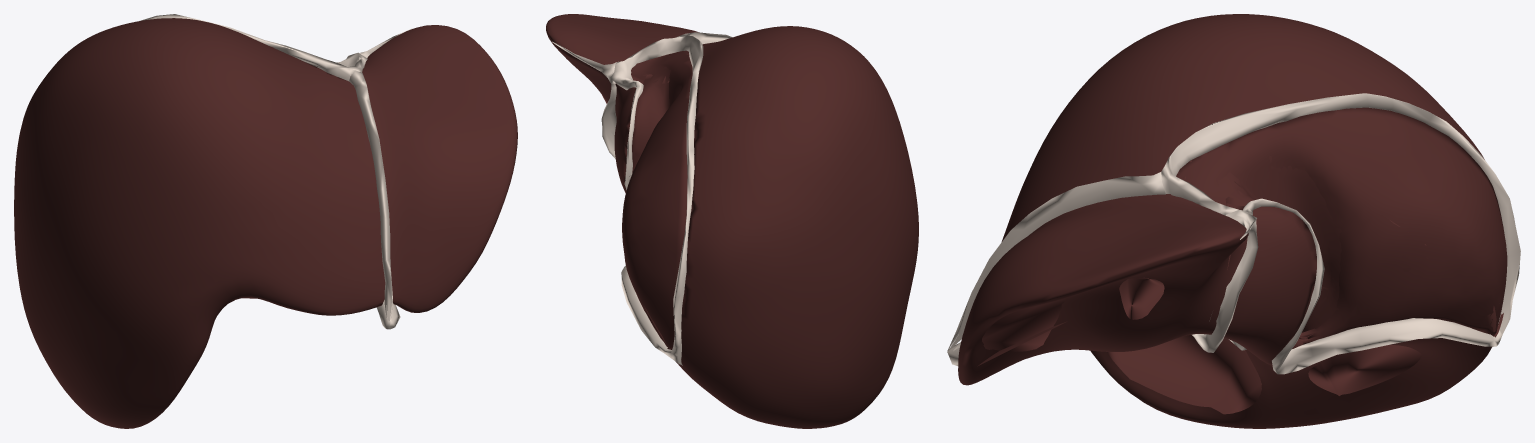
Rendered from vh_m_liver-80.glb.
The picture shows the model from 3 angles, left to right: view 1: azimuth 30°, elevation 25°; view 2: azimuth 150°, elevation 25°; view 3: azimuth 270°, elevation 25°; orthographic projection. The views are drawn at different scales.
Parts seen in each view (by area): view 1: VH_M_liver_capsule, VH_M_falciform_ligament, VH_M_coronary_ligament_of_liver; view 2: VH_M_liver_capsule, VH_M_bare_area_of_liver, VH_M_coronary_ligament_of_liver, VH_M_caudate_lobe_of_liver, VH_M_ligamentum_venosum, VH_M_triangular_ligament_of_liver, VH_M_diaphragmatic_surface; view 3: VH_M_liver_capsule, VH_M_bare_area_of_liver, VH_M_coronary_ligament_of_liver, VH_M_colic_impression_of_liver, VH_M_caudate_lobe_of_liver, VH_M_falciform_ligament, VH_M_gastric_impression_of_liver, VH_M_renal_impression_of_liver, VH_M_diaphragmatic_surface, VH_M_ligamentum_venosum.
Part boxes in pixels (x1=…): VH_M_liver_capsule: x1=14, y1=18, x2=517, y2=428; VH_M_falciform_ligament: x1=349, y1=70, x2=392, y2=320; VH_M_coronary_ligament_of_liver: x1=140, y1=14, x2=367, y2=81; VH_M_liver_capsule: x1=546, y1=14, x2=918, y2=428; VH_M_bare_area_of_liver: x1=622, y1=50, x2=692, y2=347; VH_M_coronary_ligament_of_liver: x1=610, y1=35, x2=703, y2=365; VH_M_caudate_lobe_of_liver: x1=615, y1=53, x2=689, y2=125; VH_M_ligamentum_venosum: x1=601, y1=81, x2=616, y2=158; VH_M_triangular_ligament_of_liver: x1=552, y1=41, x2=616, y2=83; VH_M_diaphragmatic_surface: x1=632, y1=74, x2=669, y2=342; VH_M_liver_capsule: x1=958, y1=14, x2=1503, y2=428; VH_M_bare_area_of_liver: x1=1176, y1=107, x2=1507, y2=344; VH_M_coronary_ligament_of_liver: x1=1161, y1=93, x2=1520, y2=374; VH_M_colic_impression_of_liver: x1=1107, y1=335, x2=1261, y2=414; VH_M_caudate_lobe_of_liver: x1=1190, y1=148, x2=1341, y2=348; VH_M_falciform_ligament: x1=947, y1=172, x2=1165, y2=351; VH_M_gastric_impression_of_liver: x1=982, y1=277, x2=1164, y2=351; VH_M_renal_impression_of_liver: x1=1308, y1=345, x2=1421, y2=395; VH_M_diaphragmatic_surface: x1=977, y1=165, x2=1496, y2=366; VH_M_ligamentum_venosum: x1=1192, y1=220, x2=1258, y2=352.
Size of the model in its own units: 0.1914 by 0.1746 by 0.2018.
